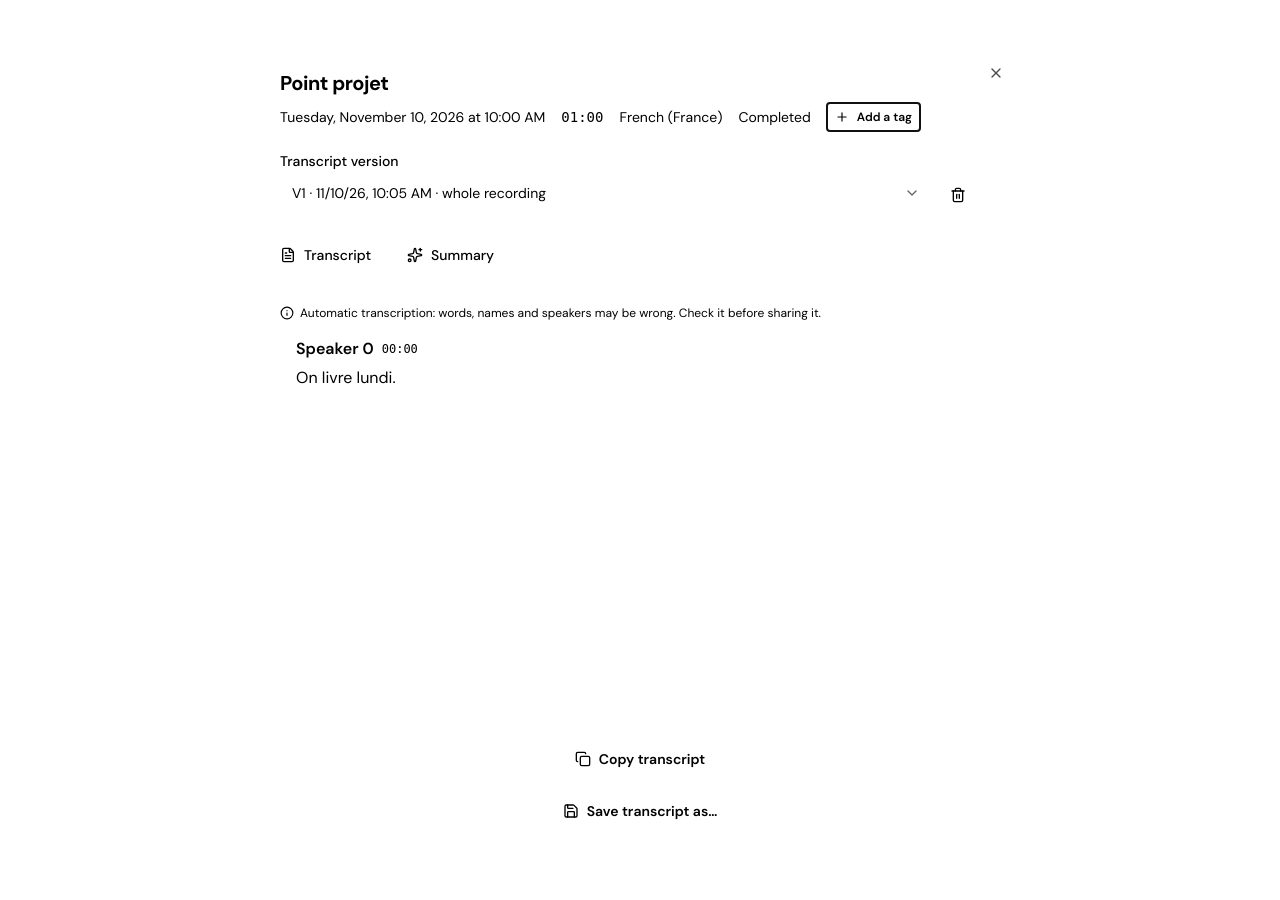
Test case: MeetingDetailModal — étiquettes › reprend l’orthographe d’une étiquette d’une autre réunion
Click the button "Add a tag": (873,117) x1=827 y1=103 x2=920 y2=131
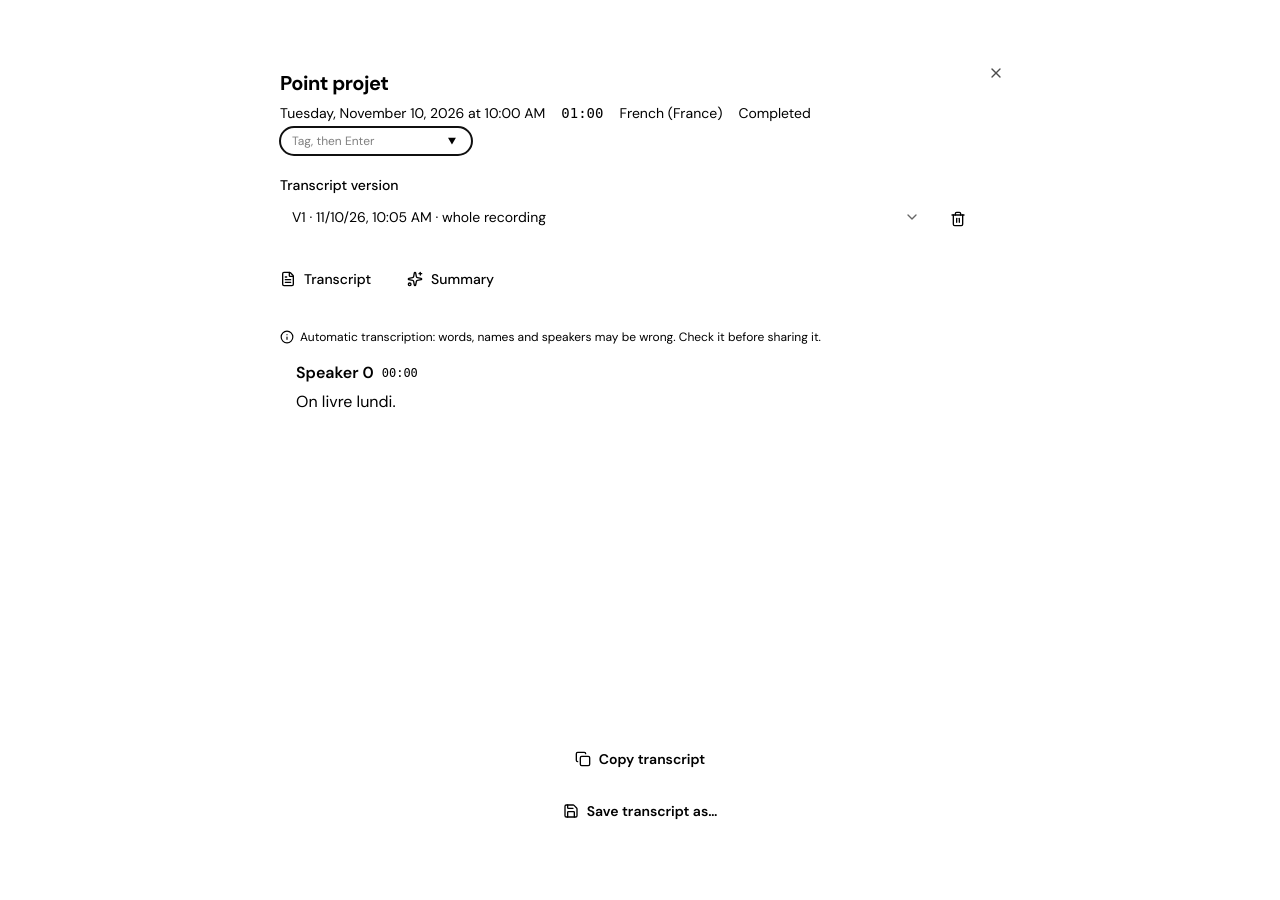
In the field named "New tag": (376,141) x1=280 y1=127 x2=472 y2=155, type "HEBDO"
Then press Enter
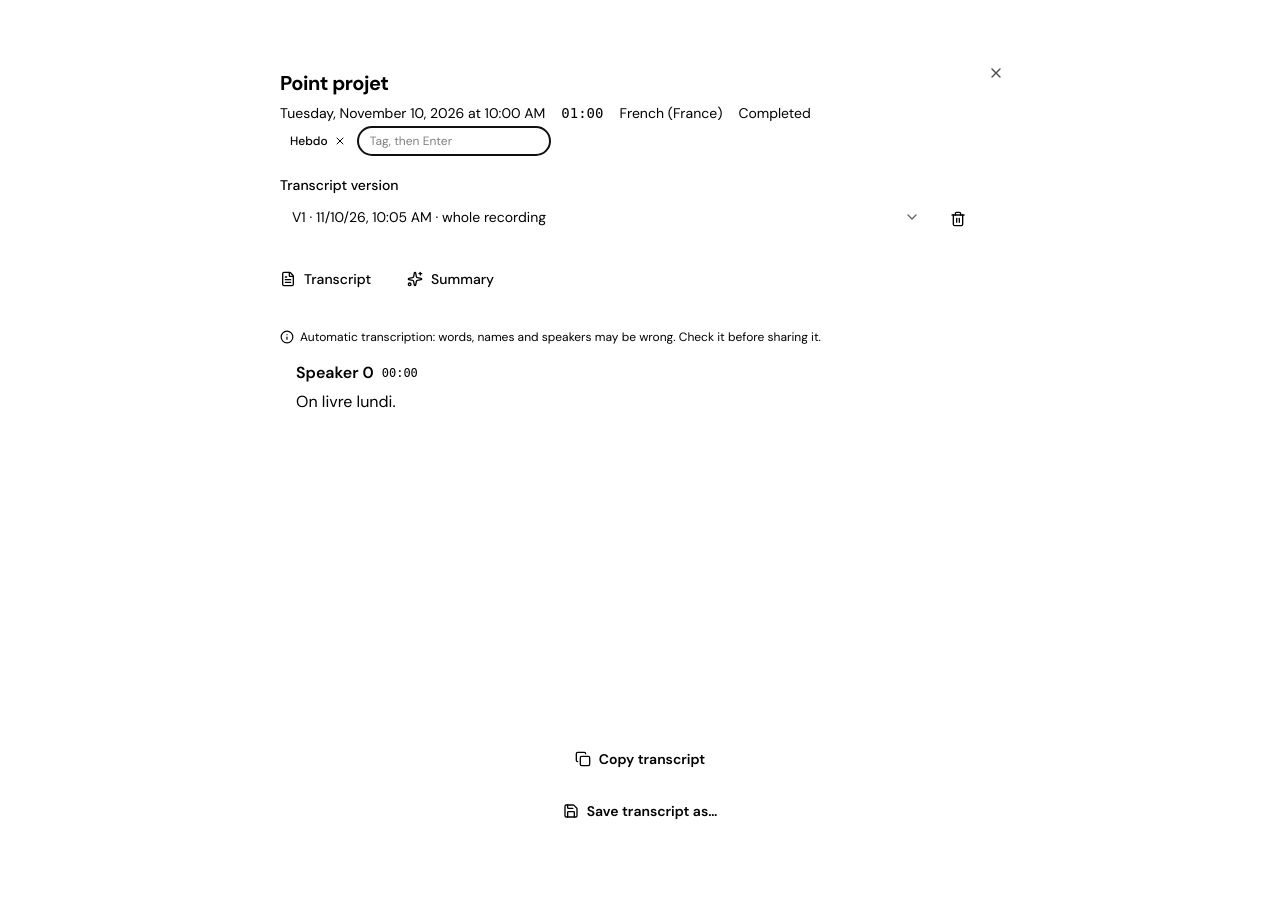
Expected: the element showing "Hebdo" is shown, x1=290 y1=133 x2=348 y2=149
